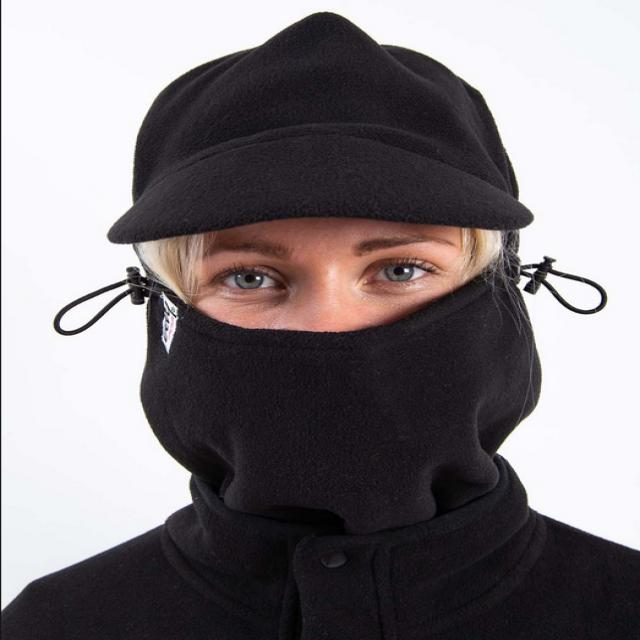hat: (108, 10, 544, 242)
